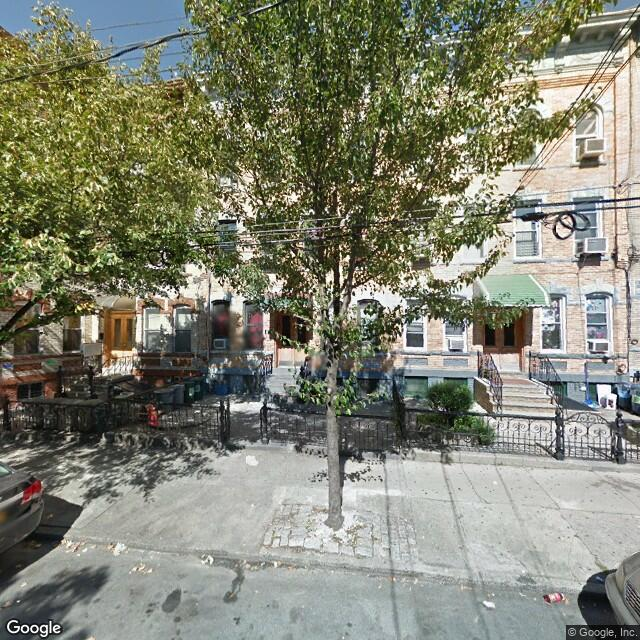litter: (537, 581, 573, 613), (469, 589, 504, 611), (234, 446, 260, 471), (194, 543, 215, 571), (103, 540, 130, 557)
